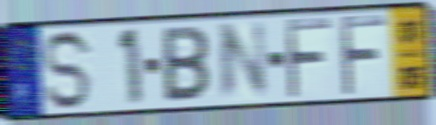1: (116, 26, 145, 108)
B: (161, 25, 212, 106)
F: (337, 13, 390, 99), (283, 16, 335, 102)
N: (216, 18, 270, 105)
S: (41, 28, 94, 113)
